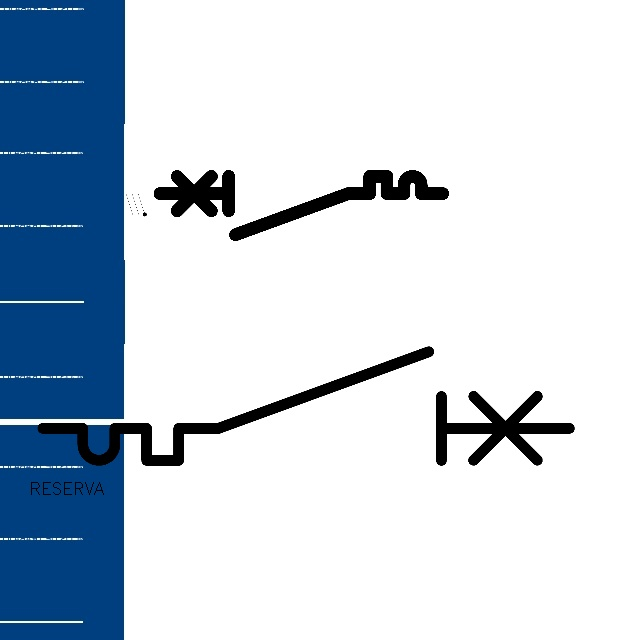interruptor_termomagnetico: (29, 338, 583, 474), (152, 169, 450, 242)
